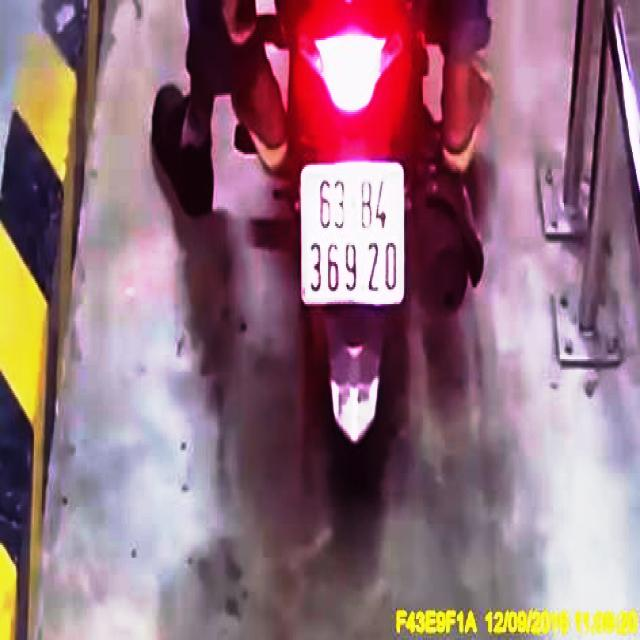license_plate: (299, 157, 407, 305)
